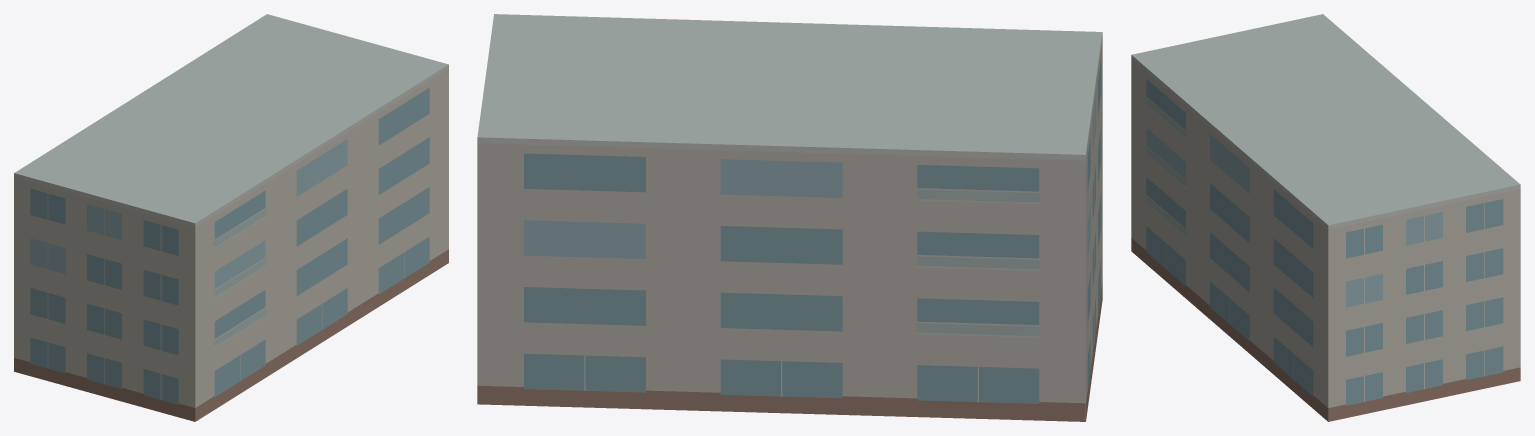
File: survey-upis-32965222.glb
3 views of the same model, side by side, from view 1: azimuth 30°, elevation 25°; view 2: azimuth 150°, elevation 25°; view 3: azimuth 270°, elevation 25° (orthographic). The views are drawn at different scales.
Visible parts, largest first — view 1: survey-upis-32965222.tmp; view 2: survey-upis-32965222.tmp; view 3: survey-upis-32965222.tmp.
Boxes of the visible parts, bbox=[...] form: survey-upis-32965222.tmp: bbox=[14, 14, 448, 421]; survey-upis-32965222.tmp: bbox=[477, 14, 1102, 421]; survey-upis-32965222.tmp: bbox=[1131, 14, 1520, 421].
Bounding box in the file's own units: 26.06 × 11.3 × 20.28.
